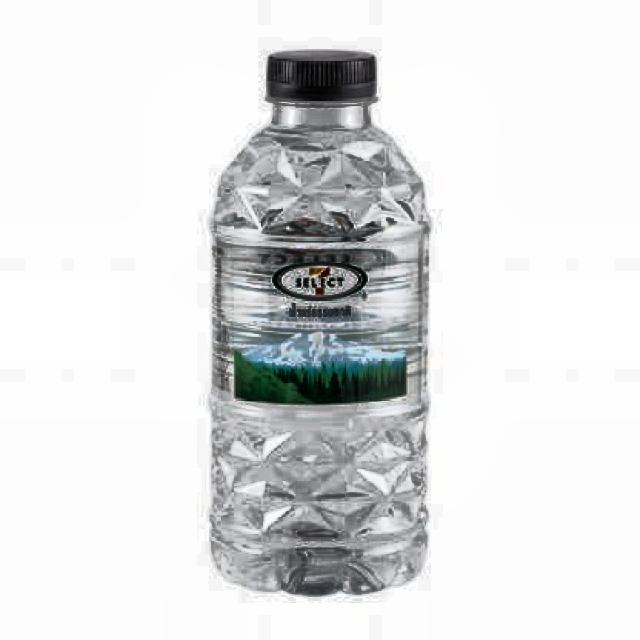Bottles: (196, 24, 457, 625)
